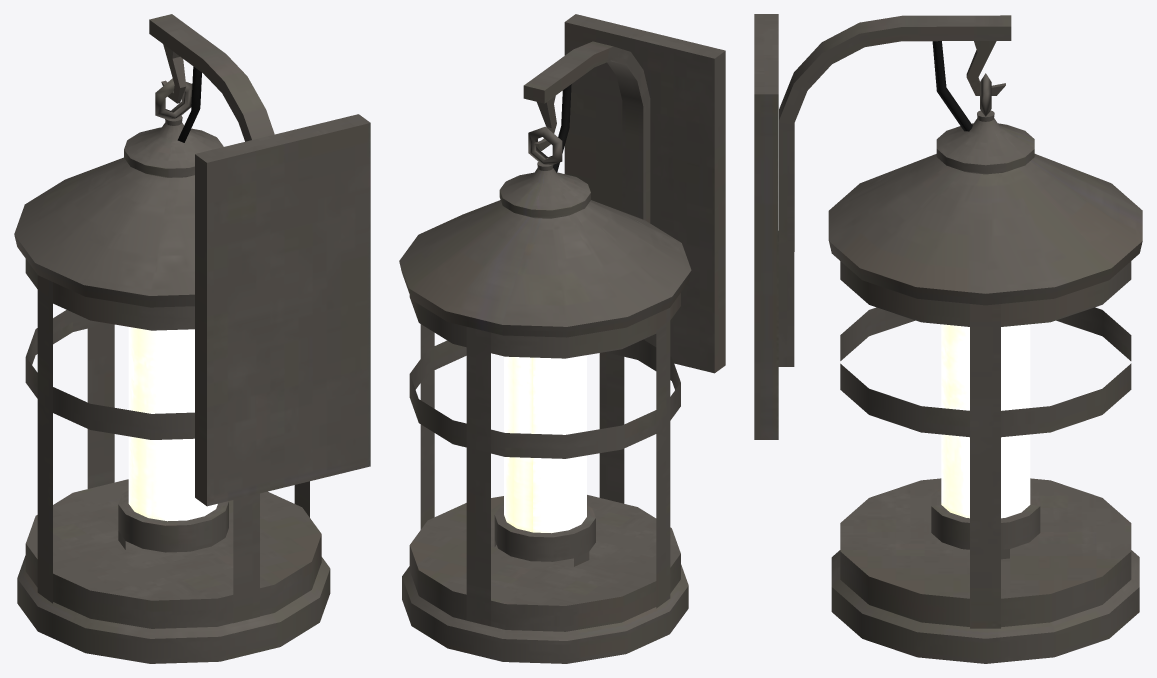
The model's file is SM_Light_Porch_01.glb.
3 views of the same model, side by side, from view 1: azimuth 30°, elevation 25°; view 2: azimuth 150°, elevation 25°; view 3: azimuth 270°, elevation 25° (orthographic). The views are drawn at different scales.
Parts seen in each view (by area): view 1: SM_Light_Porch_01; view 2: SM_Light_Porch_01; view 3: SM_Light_Porch_01.
Part boxes in pixels (x1,y1,x2,y2): SM_Light_Porch_01: (14,14,370,663); SM_Light_Porch_01: (399,14,725,663); SM_Light_Porch_01: (754,14,1142,663).
Size of the model in its own units: 0.2039 by 0.4023 by 0.246.
Materials: 1 (1 with a texture image).
